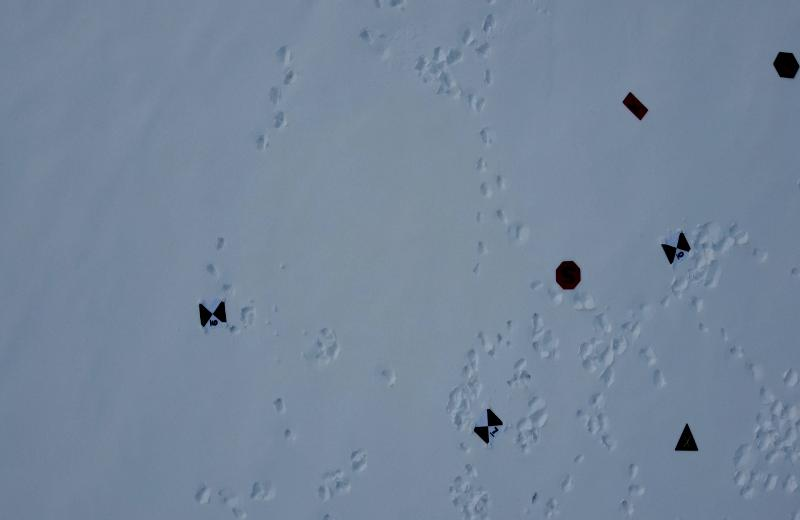Hexagon: (770, 49, 800, 81)
Octagon: (555, 259, 584, 295)
Rectangle: (622, 91, 648, 123)
Triangle: (674, 418, 699, 452)
